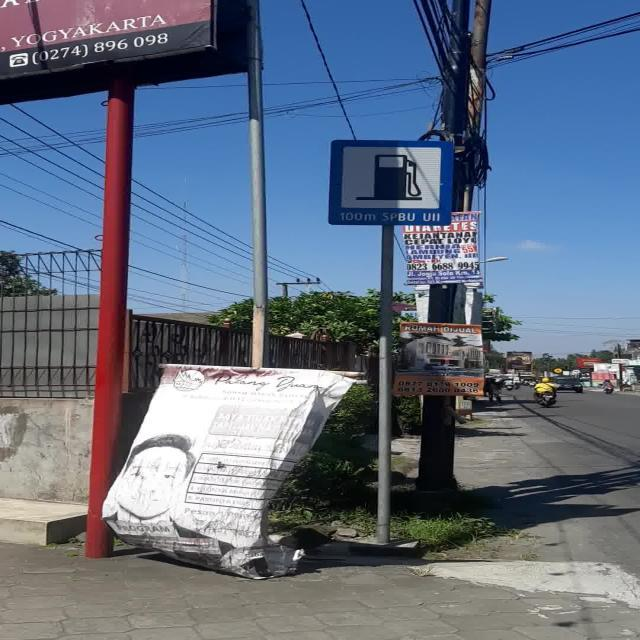Pom Bensin: (328, 139, 454, 226)
